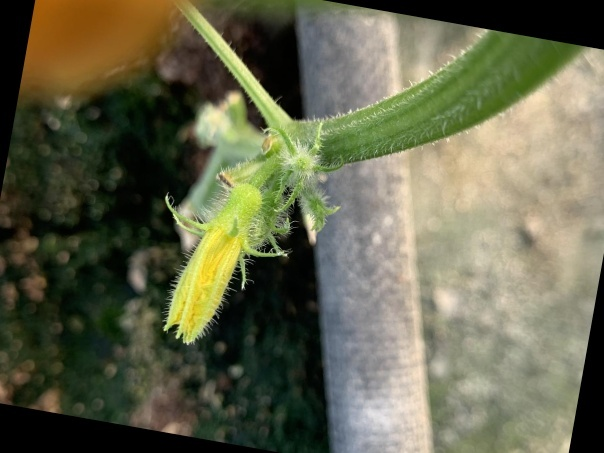born: (144, 148, 300, 342)
